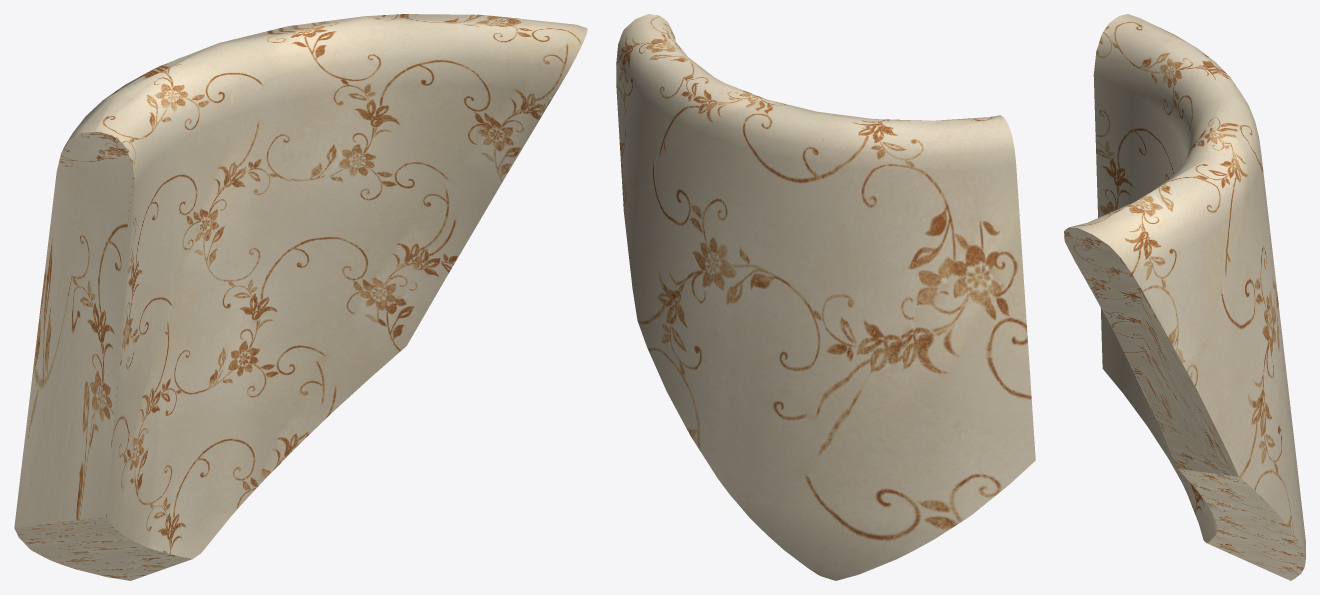
The picture shows the model from 3 angles, left to right: view 1: azimuth 30°, elevation 25°; view 2: azimuth 150°, elevation 25°; view 3: azimuth 270°, elevation 25°; orthographic projection. The views are drawn at different scales.
Parts seen in each view (by area): view 1: Cylinder_cell.009; view 2: Cylinder_cell.009; view 3: Cylinder_cell.009.
Boxes of the visible parts, x1,y1,x2,y2 form: Cylinder_cell.009: (14,14,587,580); Cylinder_cell.009: (616,14,1035,580); Cylinder_cell.009: (1064,14,1305,580).
Bounding box in the file's own units: 1.41 × 1.35 × 0.5853.
1 material, 1 textured.
